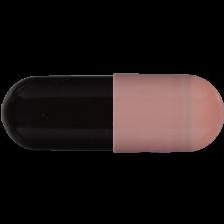63187-510: (0, 0, 224, 224)
